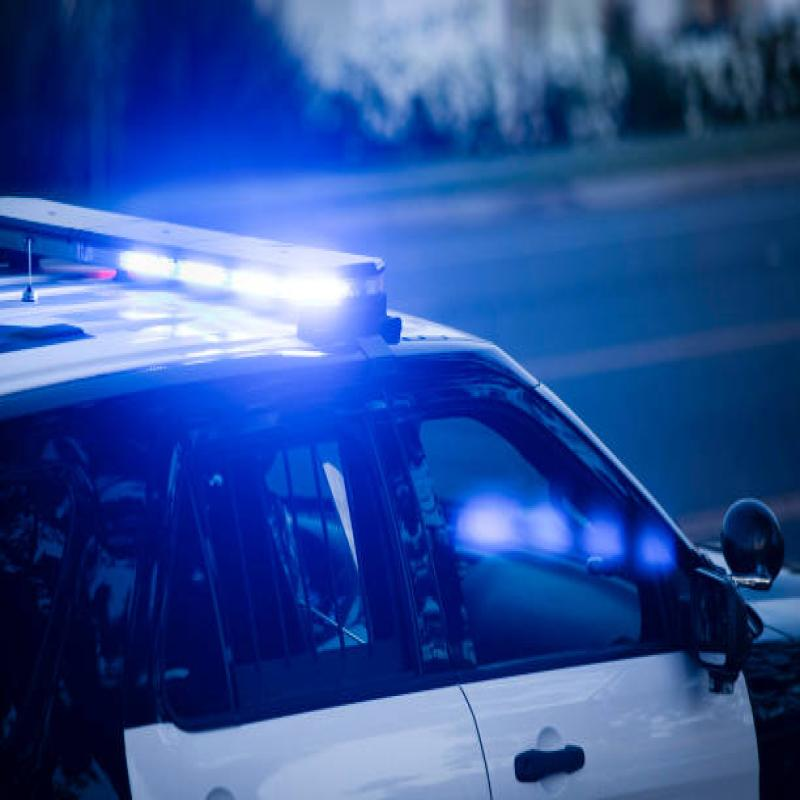AmbulanceSiren: (0, 150, 391, 364)
